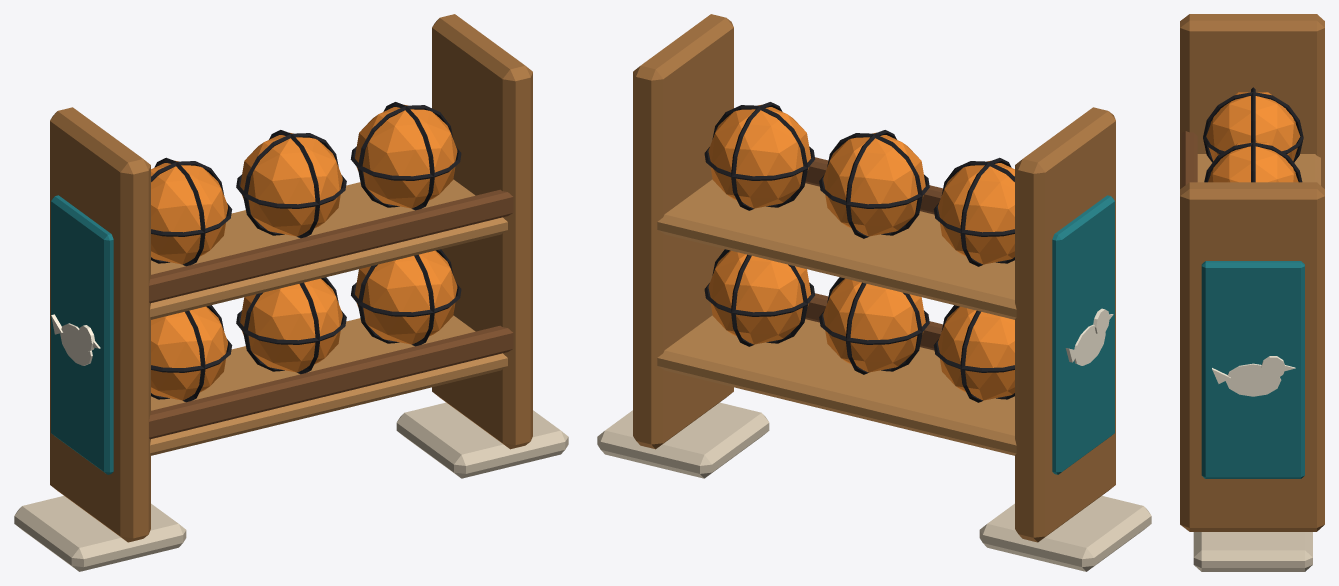
The model's file is ball_rack.glb.
3 renders of one model, left to right at view 1: azimuth 30°, elevation 25°; view 2: azimuth 150°, elevation 25°; view 3: azimuth 270°, elevation 25°, orthographic. The views are drawn at different scales.
Parts seen in each view (by area): view 1: ball_rack; view 2: ball_rack; view 3: ball_rack.
Boxes of the visible parts, x1,y1,x2,y2 form: ball_rack: [14, 14, 568, 571]; ball_rack: [597, 14, 1151, 571]; ball_rack: [1180, 14, 1324, 571].
Size of the model in its own units: 1.3 by 1.01 by 0.364.
